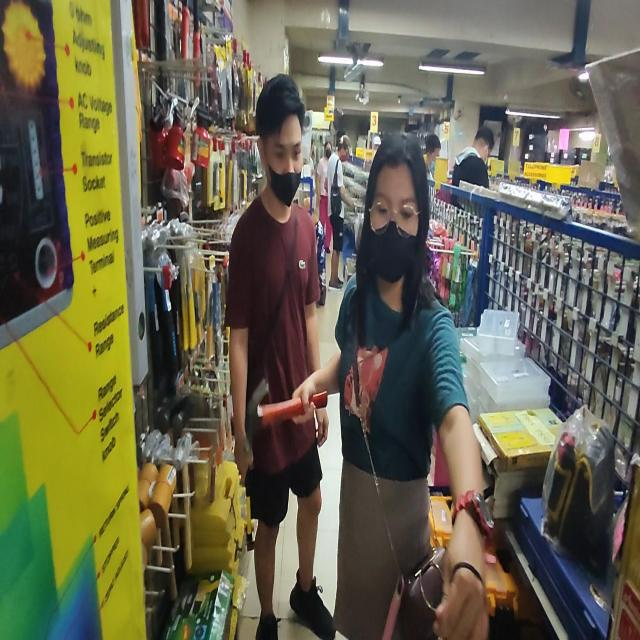hammer: (244, 377, 328, 464)
